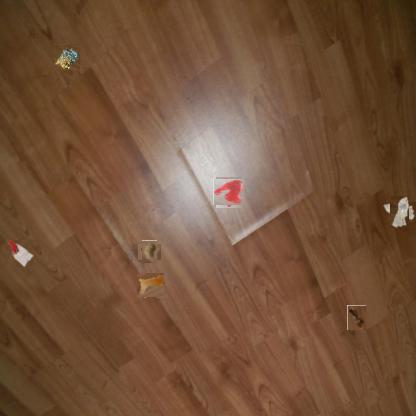dirty: (6, 239, 34, 267), (54, 44, 80, 70), (386, 199, 412, 225), (347, 305, 366, 330), (140, 242, 159, 262)
liquid: (215, 178, 243, 207), (137, 272, 163, 298)
